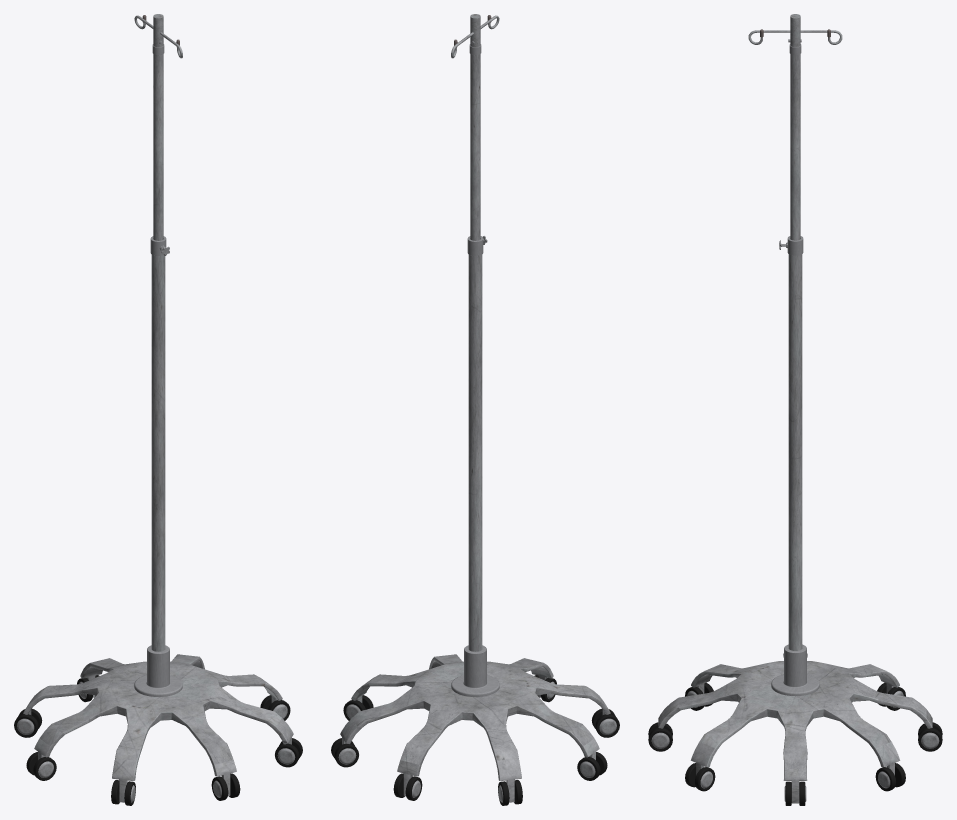
File: Portasuero.fbx
3 views of the same model, side by side, from view 1: azimuth 30°, elevation 25°; view 2: azimuth 150°, elevation 25°; view 3: azimuth 270°, elevation 25° (orthographic).
Visible parts, largest first — view 1: Circle.012; view 2: Circle.012; view 3: Circle.012.
Boxes of the visible parts, x1=… form: Circle.012: x1=14, y1=14, x2=302, y2=805; Circle.012: x1=331, y1=14, x2=619, y2=805; Circle.012: x1=648, y1=14, x2=942, y2=805.
Bounding box in the file's own units: 63.45 × 174 × 63.45.
4 materials, 3 textured.
